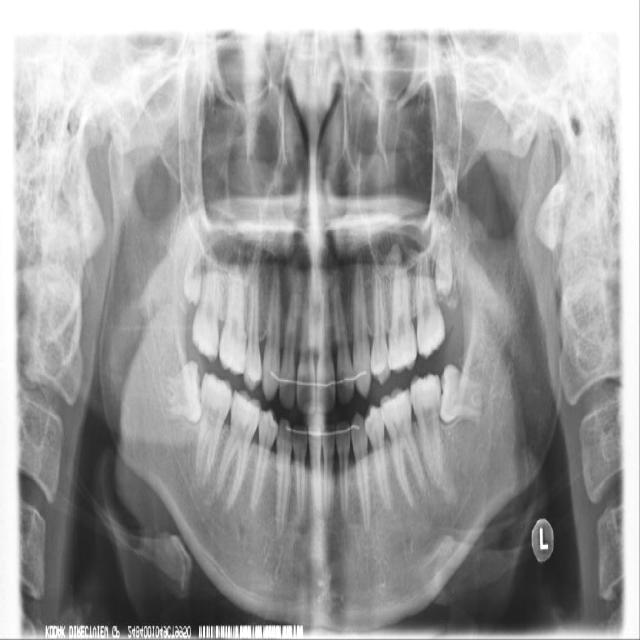Periapical lesion: (434, 473, 461, 502), (201, 482, 224, 507)
impacted tooth: (430, 209, 455, 293), (185, 218, 204, 309)
